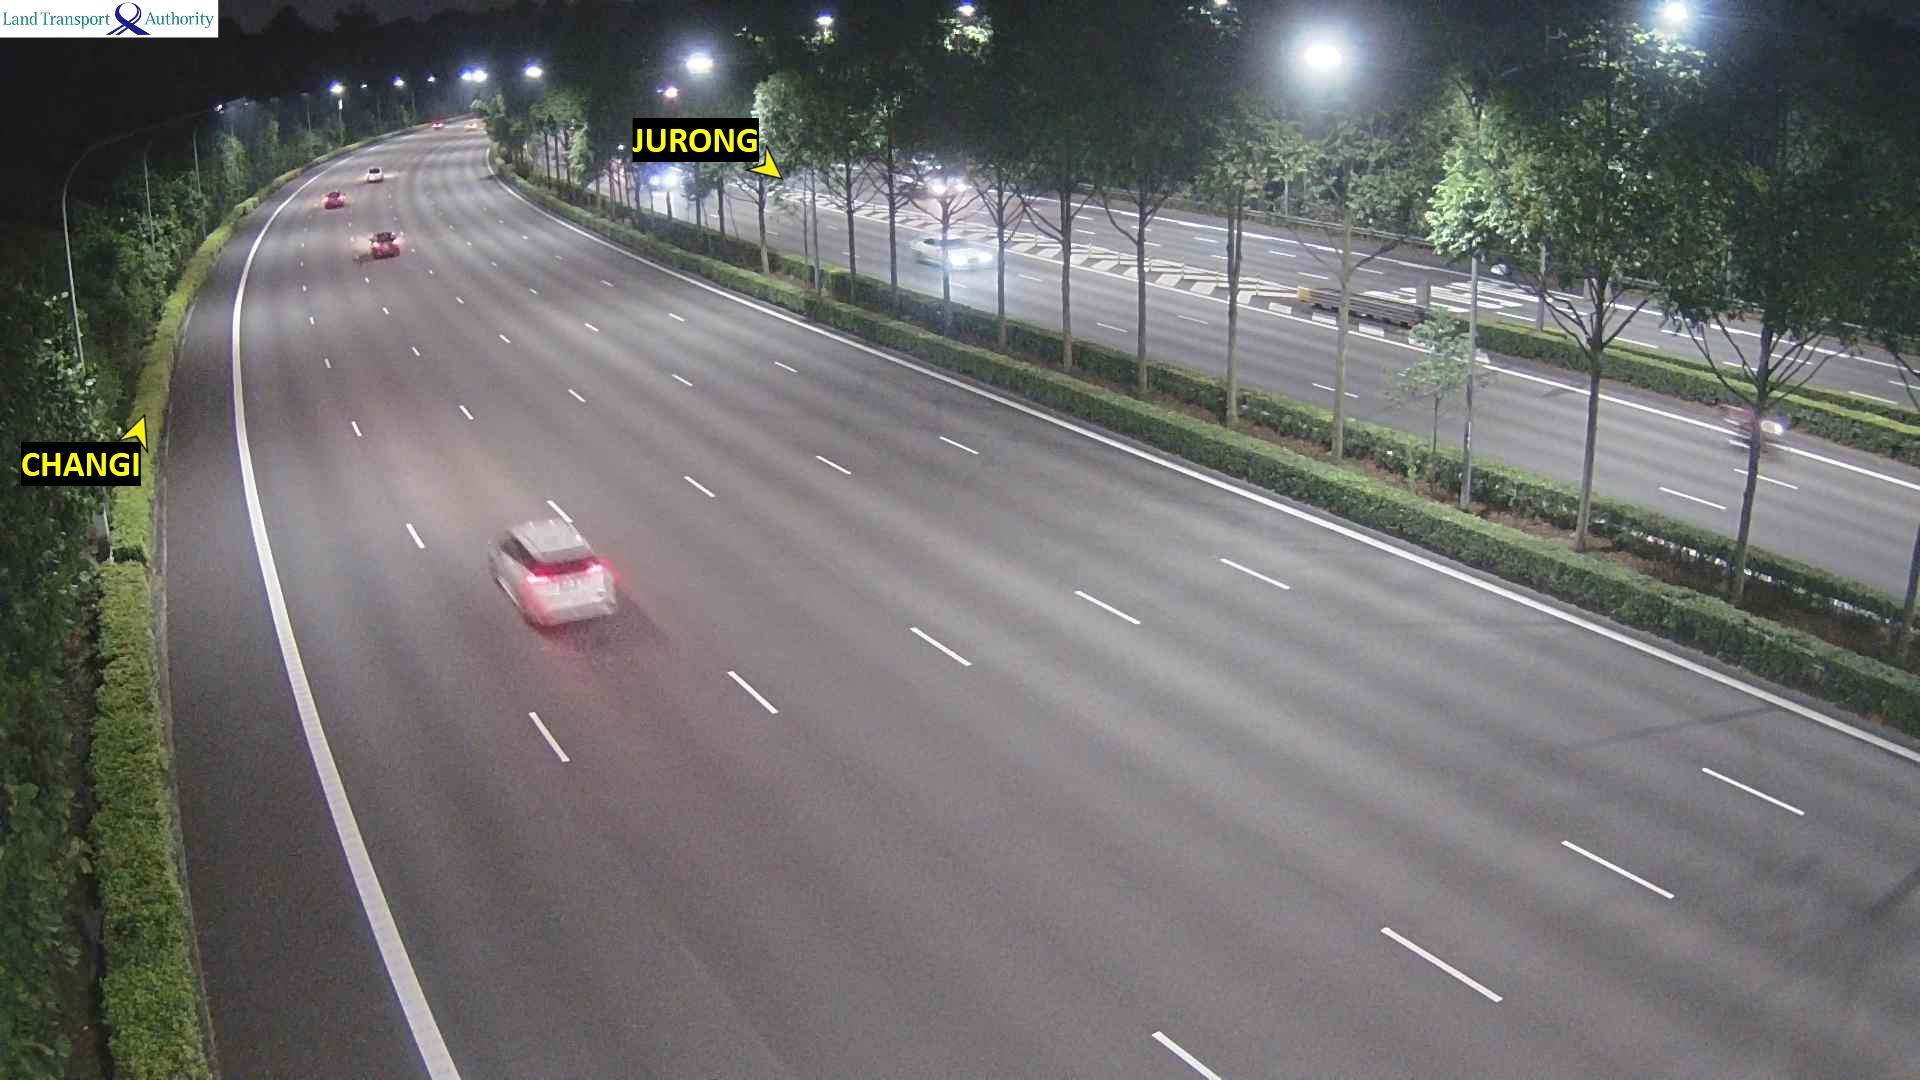incoming: (944, 233, 989, 272), (922, 164, 968, 200)
